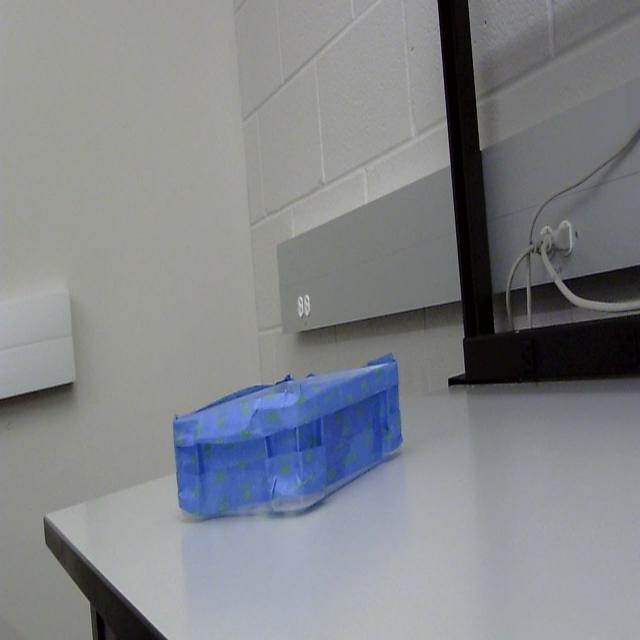bucket: (171, 346, 406, 524)
